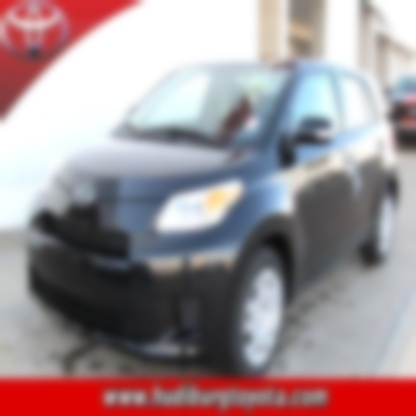Vehicle: (24, 58, 401, 379)
